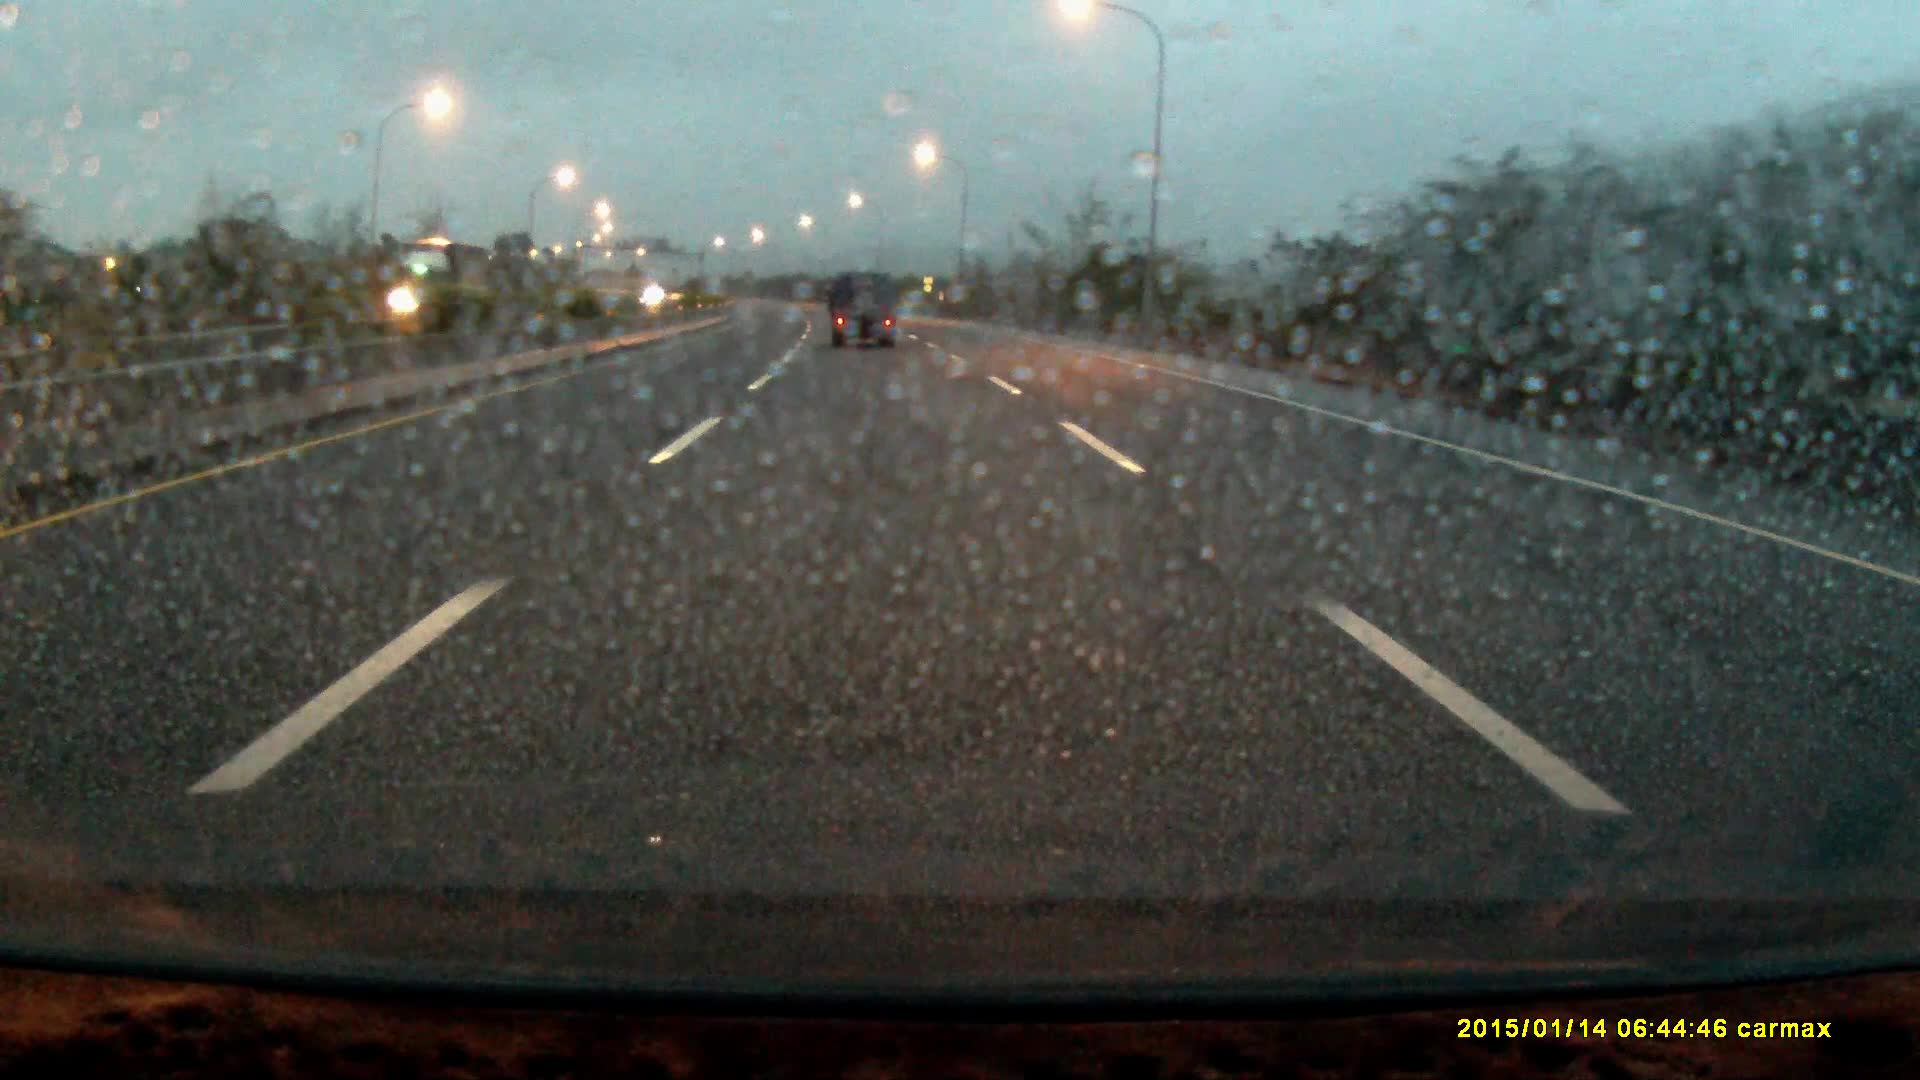vehicle: (382, 237, 509, 336), (829, 273, 902, 349)
